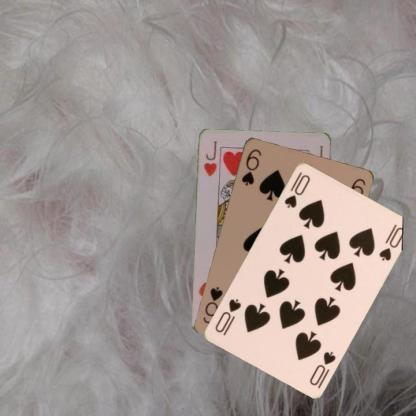10s: (282, 172, 312, 209), (307, 349, 337, 386)
6s: (239, 146, 262, 186)
Jh: (201, 138, 219, 177)
